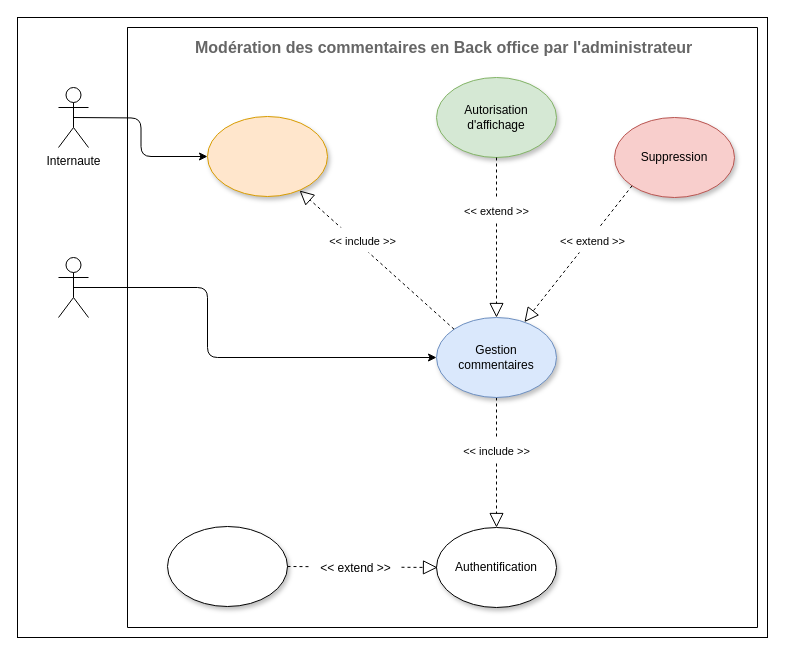
Some shapes in this 785 by 655 pixel diagram are drawn without their labels. The centre of each missing label's shape, as x and y in pixels:
"Administrateur" goes at point (73, 287).
"Envois de commentaires" goes at point (268, 158).
"Inscription" goes at point (228, 568).
